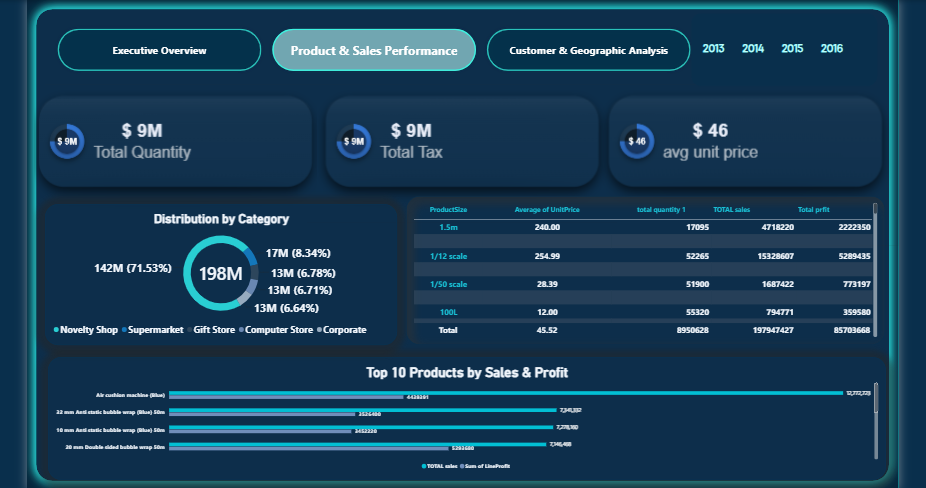

The page's visual inventory and layout, read from the dashboard file:
{"tool":"powerbi","page":{"name":"Product & Sales Performance","canvas":[1920,1080],"ordinal":1},"visuals":[{"type":"shape","box":[0,0,1920,1080],"z":0},{"type":"pageNavigator","box":[38.6,36.2,1452.1,149.5],"z":1000},{"type":"STANDALONEhtmlContent443BE3AD55E043BF878BED274D3A6855","fields":{"content":["HTML.HTML_Quantity_Card"]},"box":[0,185.7,653.7,323.2],"z":2000},{"type":"STANDALONEhtmlContent443BE3AD55E043BF878BED274D3A6855","fields":{"content":["HTML.HTML_avg unit price"]},"box":[1244.6,185.7,675.4,354.6],"z":3000},{"type":"STANDALONEhtmlContent443BE3AD55E043BF878BED274D3A6855","fields":{"content":["HTML.HTML_total tax"]},"box":[617.5,185.7,682.6,303.9],"z":4000},{"type":"nexoraButtonSlicer74A92BB1DAE480BBC09C4B425BA7007","fields":{"category":["DimDate.CalendarYear"]},"box":[1448.9,15.6,442.2,190],"z":6000},{"type":"donutChart","title":"Distribution by Category","fields":{"Category":["DimCustomer.CustomerCategoryName"],"Y":["FactSales.TOTAL sales"]},"box":[39.7,449.6,775.8,310.8],"z":7000},{"type":"clusteredBarChart","title":"Top 10 Products by Sales & Profit","fields":{"Category":["DimProduct.ProductName"],"Y":["FactSales.TOTAL sales","Sum(FactSales.LineProfit)"]},"box":[45.6,787.8,1846.5,271],"z":8000},{"type":"pivotTable","title":"Sales by Product","fields":{"Rows":["DimProduct.ProductName","DimProduct.ProductSize"],"Values":["Avg(FactSales.UnitPrice)","FactSales.total quantity 1","FactSales.TOTAL sales","FactSales.Total prfit"]},"box":[835.3,432,1055.8,328.4],"z":9000}]}

Visuals, with their boxes on the page's 1920x1080 design canvas (x1, y1, x2, y2). These are canvas units, not pixel positions in the 926x488 screenshot, which may show the page scaled, cropped or inside an application window:
shape: [0,0,1920,1080]
pageNavigator: [39,36,1491,186]
STANDALONEhtmlContent443BE3AD55E043BF878BED274D3A6855 - HTML.HTML_Quantity_Card: [0,186,654,509]
STANDALONEhtmlContent443BE3AD55E043BF878BED274D3A6855 - HTML.HTML_avg unit price: [1245,186,1920,540]
STANDALONEhtmlContent443BE3AD55E043BF878BED274D3A6855 - HTML.HTML_total tax: [618,186,1300,490]
nexoraButtonSlicer74A92BB1DAE480BBC09C4B425BA7007 - DimDate.CalendarYear: [1449,16,1891,206]
"Distribution by Category" donutChart: [40,450,816,760]
"Top 10 Products by Sales & Profit" clusteredBarChart: [46,788,1892,1059]
"Sales by Product" pivotTable: [835,432,1891,760]
